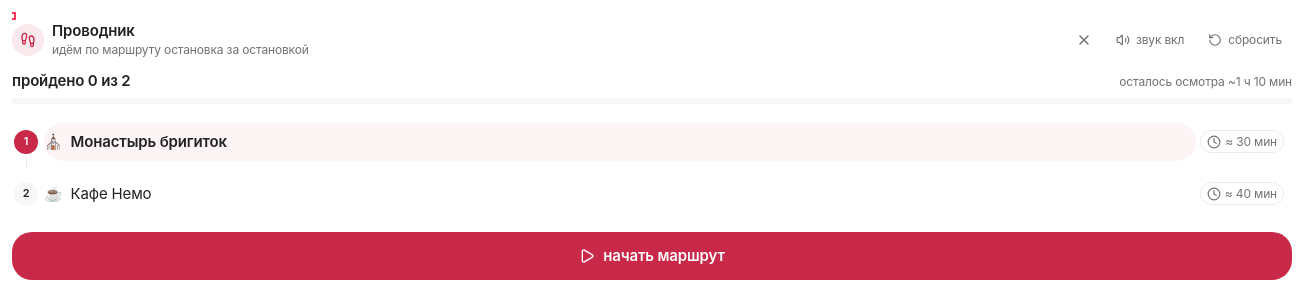
Scenario: GuidePanel › mutes the stops already walked and keeps the next one in the accent
The width and height of the screenshot is (1304, 297).
Click the button with test id "guide-stop-1" at (149, 141), box top-left (44, 123), bottom-right (1196, 161)
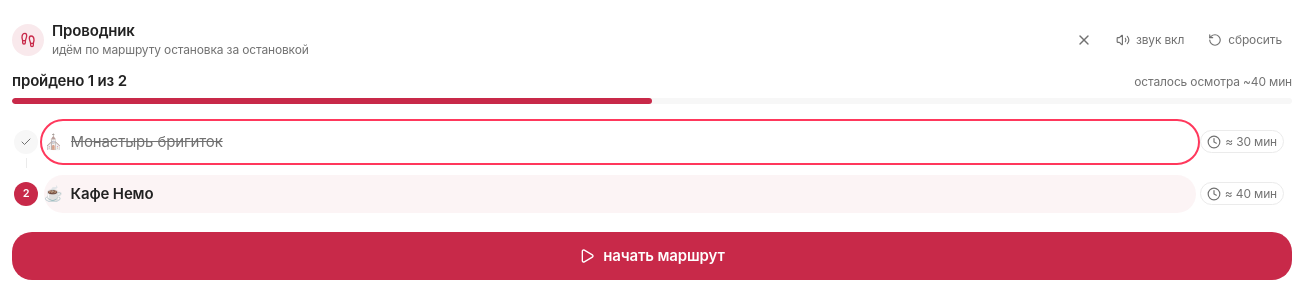
Expected: the button with test id "guide-stop-1" is pressed
Expected: the text "Монастырь бригиток" has class "line-through", top-left (71, 132), bottom-right (223, 151)
Expected: the button with test id "guide-stop-1" does not have attribute aria-current
Click the button with test id "guide-stop-1" at (147, 141), box top-left (44, 123), bottom-right (1196, 161)
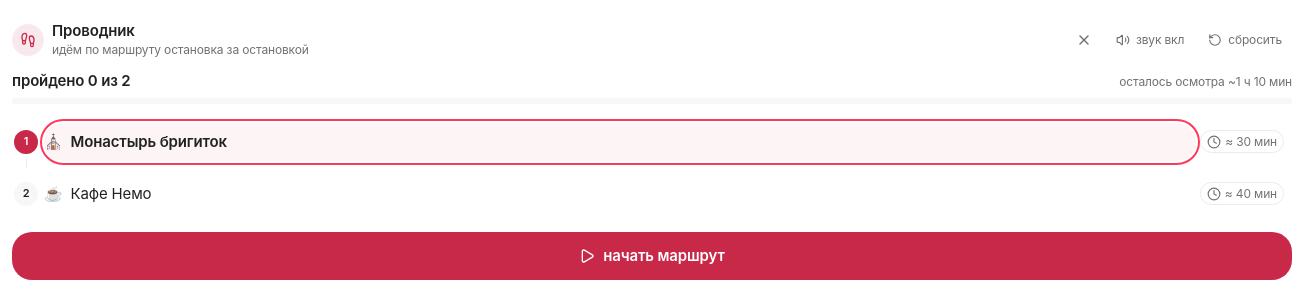
Expected: the text "пройдено 0 из 2" is shown, top-left (12, 70), bottom-right (130, 92)
